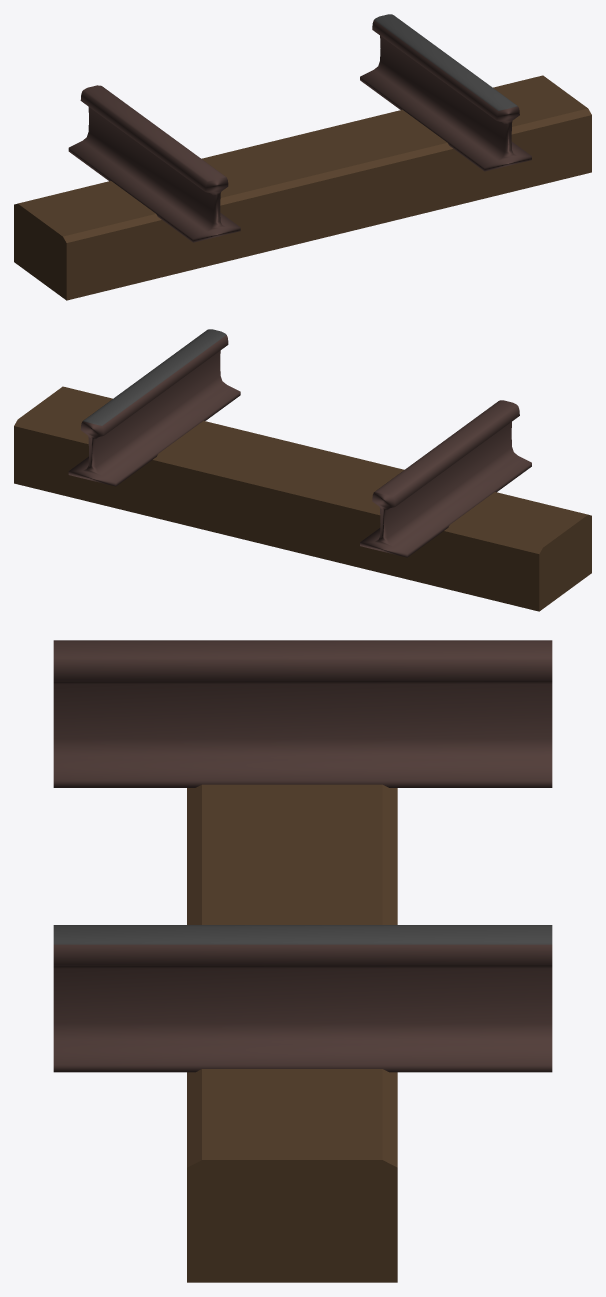
Rendered from rail.gltf.
3 views of the same model, one above another, from view 1: azimuth 30°, elevation 25°; view 2: azimuth 150°, elevation 25°; view 3: azimuth 270°, elevation 25° (orthographic). The views are drawn at different scales.
Parts seen in each view (by area): view 1: Куб.006; view 2: Куб.006; view 3: Куб.006.
Boxes of the visible parts, x1,y1,x2,y2 form: Куб.006: (14, 14, 591, 300); Куб.006: (14, 329, 591, 611); Куб.006: (53, 640, 552, 1282).
Size of the model in its own units: 2.88 by 0.6227 by 1.19.
